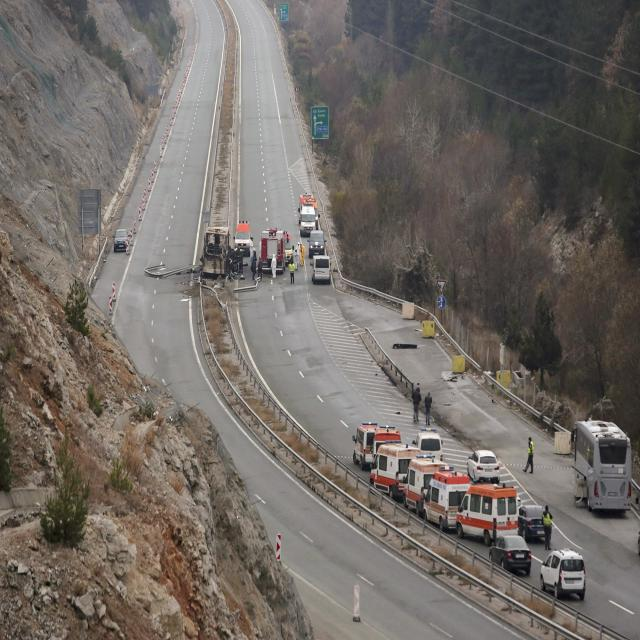Accident: (197, 221, 256, 284)
